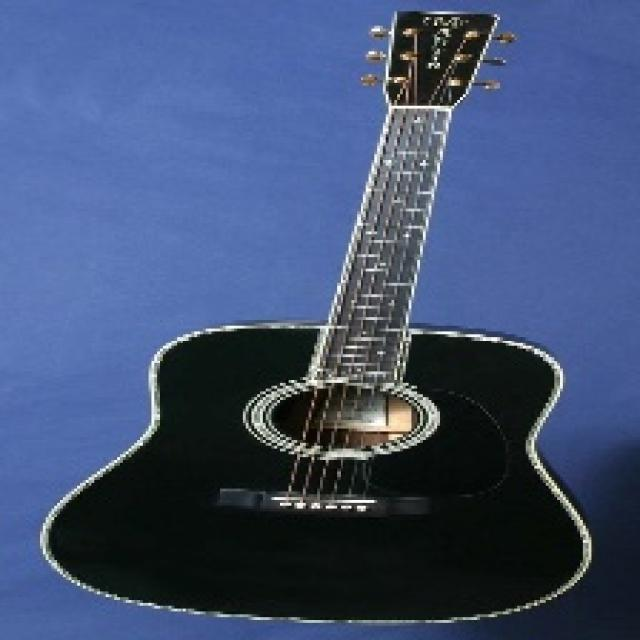acousticguitar: (42, 12, 590, 621)
